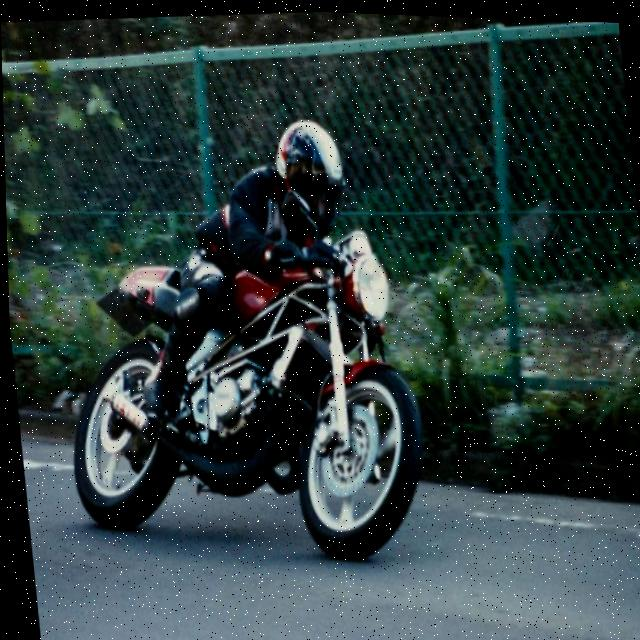motorcycle: (14, 48, 471, 584)
